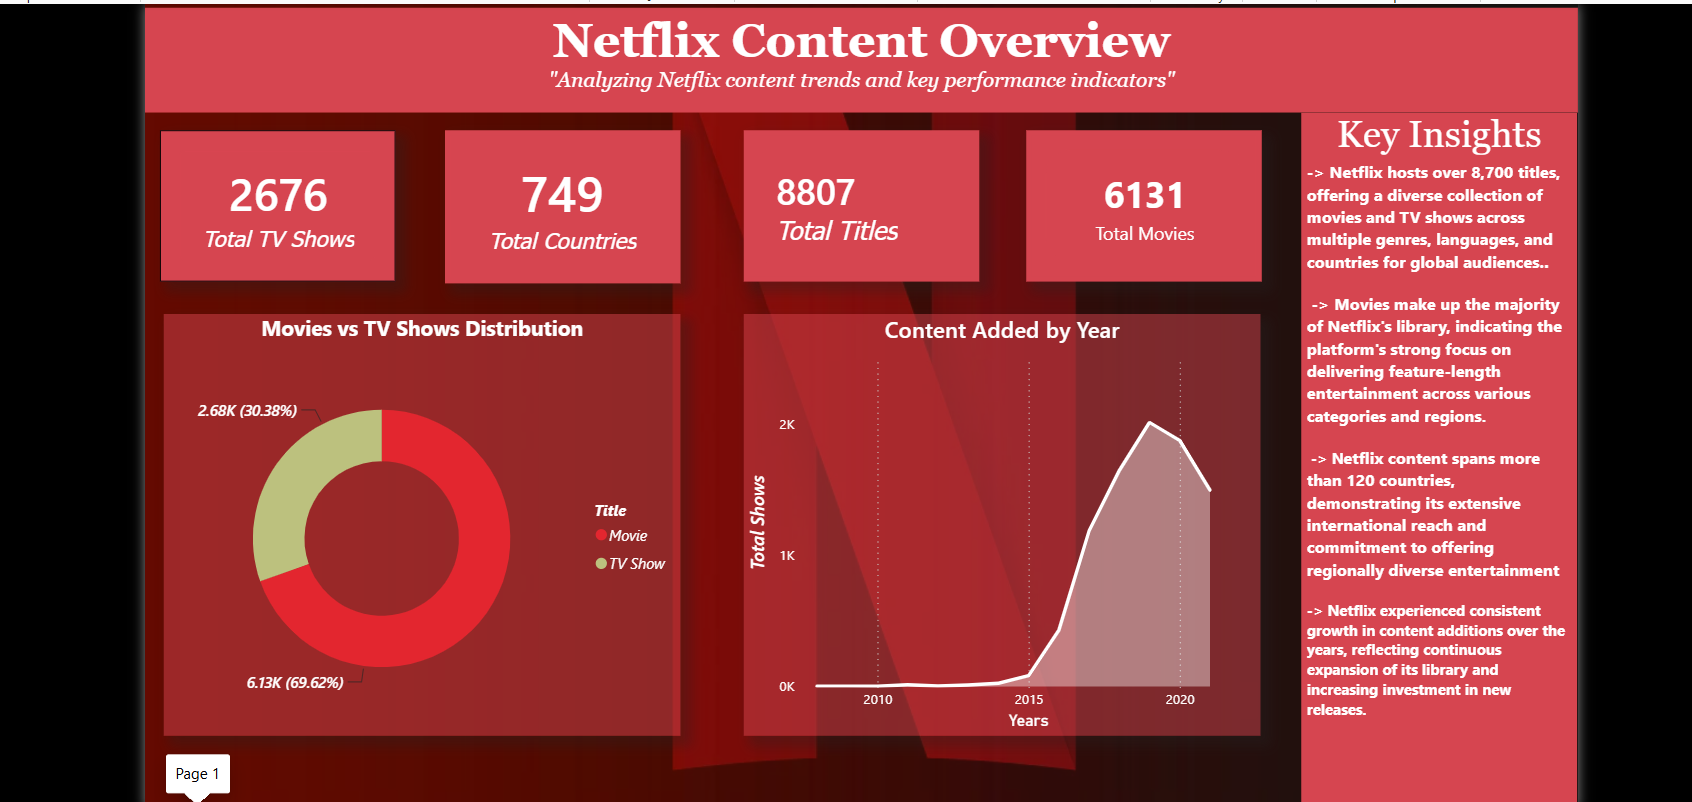

The page's visual inventory and layout, read from the dashboard file:
{"tool":"powerbi","page":{"name":"Page 1","canvas":[1280,720],"ordinal":0},"visuals":[{"type":"cardVisual","fields":{"Data":["netflix_cleaned_dataset.Total Movies"]},"box":[786.7,113.3,210,135],"z":0},{"type":"cardVisual","fields":{"Data":["netflix_cleaned_dataset.Total Titles"]},"box":[535,113.3,210,135],"z":1000},{"type":"cardVisual","fields":{"Data":["netflix_cleaned_dataset.Total TV Shows"]},"box":[13.3,113.3,210,135],"z":2000},{"type":"cardVisual","fields":{"Data":["netflix_cleaned_dataset.Total Countries"]},"box":[268.3,113.3,210,136.7],"z":3000},{"type":"donutChart","title":"Movies vs TV Shows Distribution","fields":{"Category":["netflix_cleaned_dataset.type"],"Y":["CountNonNull(netflix_cleaned_dataset.show_id)"]},"box":[16.7,276.7,461.7,376.7],"z":4000},{"type":"textbox","box":[0,3.3,1280,93.3],"z":5000},{"type":"lineChart","title":"Content Added by Year","fields":{"Category":["netflix_cleaned_dataset.Added_Year"],"Y":["CountNonNull(netflix_cleaned_dataset.show_id)"]},"box":[535,276.7,461.7,376.7],"z":6000},{"type":"textbox","title":"Key Insights","box":[1033.3,96.7,246.7,623.3],"z":7000}]}

Visuals, with their boxes on the page's 1280x720 design canvas (x1, y1, x2, y2). These are canvas units, not pixel positions in the 1692x802 screenshot, which may show the page scaled, cropped or inside an application window:
cardVisual - netflix_cleaned_dataset.Total Movies: <box>787,113,997,248</box>
cardVisual - netflix_cleaned_dataset.Total Titles: <box>535,113,745,248</box>
cardVisual - netflix_cleaned_dataset.Total TV Shows: <box>13,113,223,248</box>
cardVisual - netflix_cleaned_dataset.Total Countries: <box>268,113,478,250</box>
"Movies vs TV Shows Distribution" donutChart: <box>17,277,478,653</box>
textbox: <box>0,3,1280,97</box>
"Content Added by Year" lineChart: <box>535,277,997,653</box>
"Key Insights" textbox: <box>1033,97,1280,720</box>
